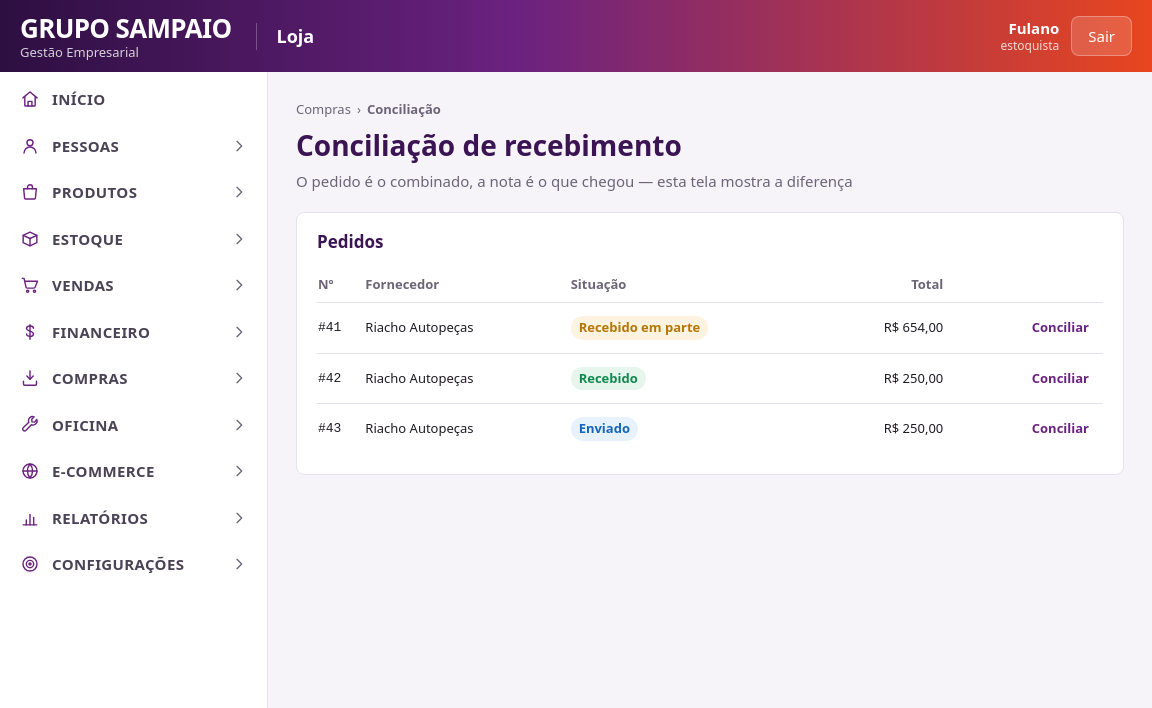
it: a régua por linha — a mesma do recalcReceived, projetada na tela › o pedido 43, com nota em conferência que bate item a item, é OK aguardando confirmação
The image size is (1152, 708).
Step 1. Click the button "Conciliar" in the row of "43" → [1060, 429], box [1019,412,1102,446]
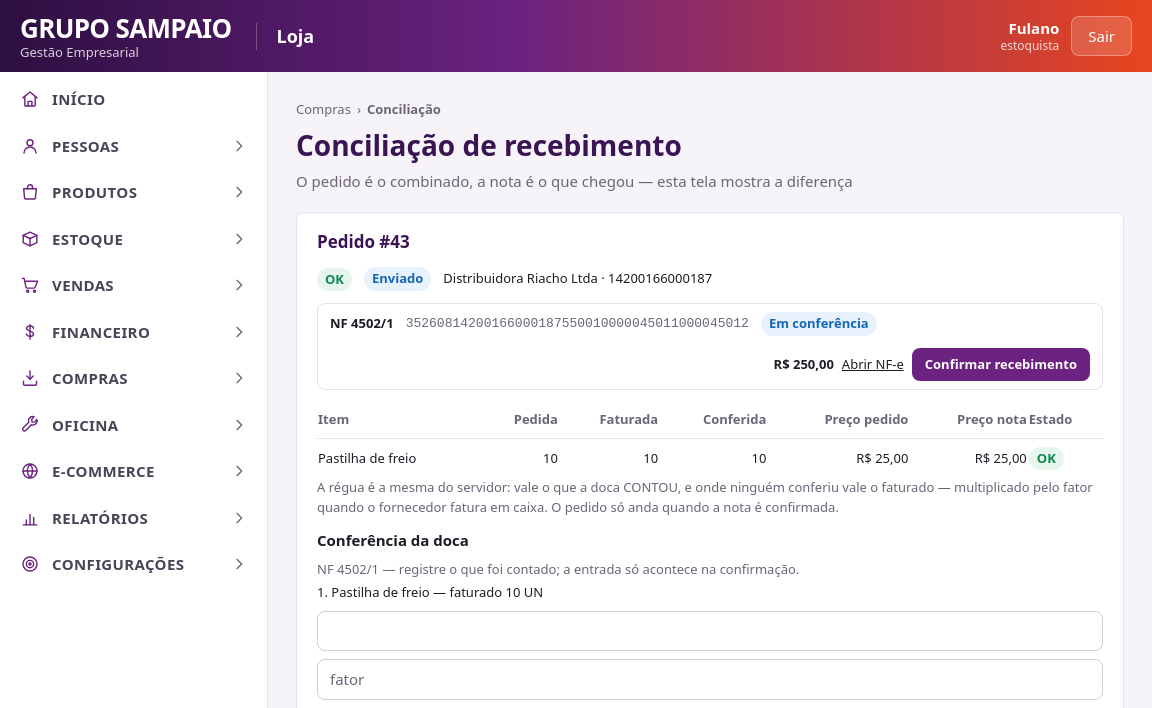
Expected: the text "Pastilha de freio" is shown, [318,448,416,466]
Expected: the element with test id "estado-do-pedido" reads "OK", [325,270,344,288]
